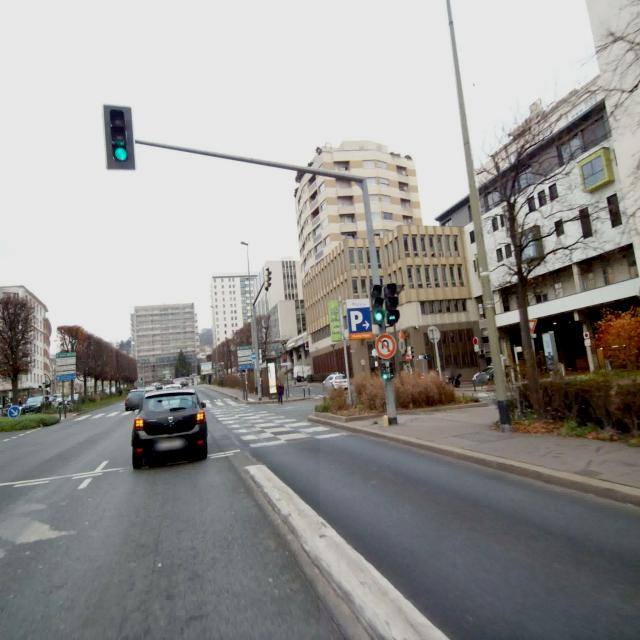car: (130, 386, 209, 469), (322, 372, 349, 391), (22, 395, 50, 413), (124, 388, 145, 411), (472, 364, 494, 384)
